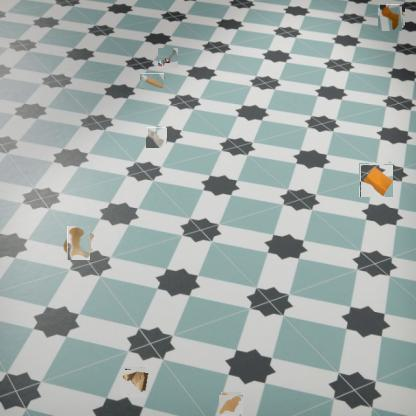dirty: (360, 164, 393, 198), (120, 368, 148, 396), (379, 5, 404, 30), (146, 128, 167, 148), (158, 48, 178, 68), (140, 73, 164, 88)
liquid: (65, 229, 93, 258), (220, 393, 242, 415)
